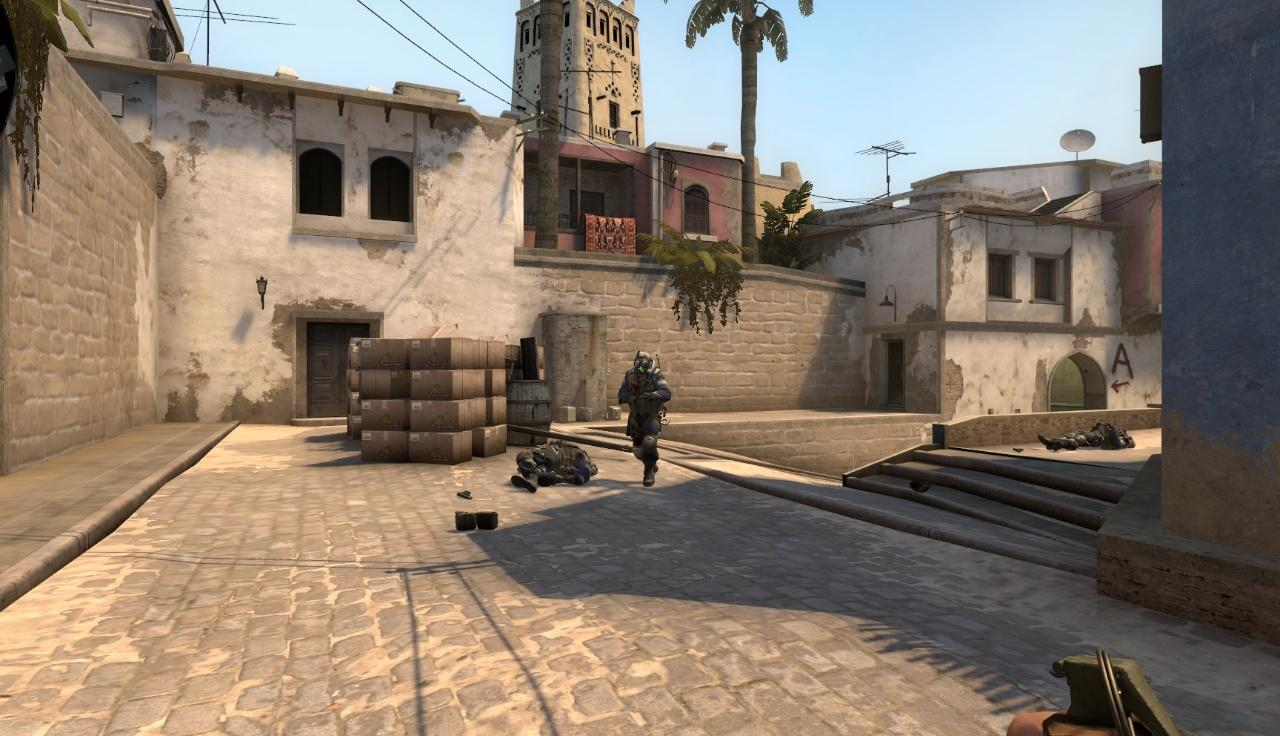ct: (619, 351, 673, 488)
cthead: (635, 351, 655, 374)
